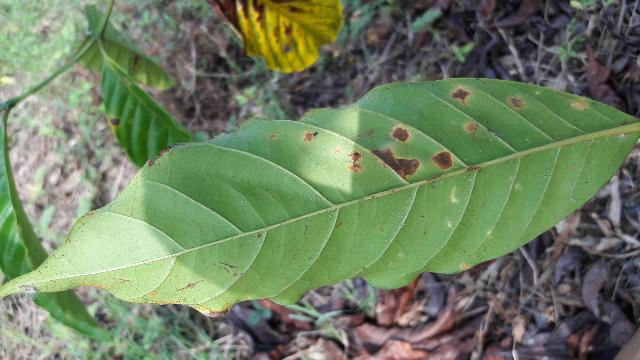red_spider_mite: (3, 83, 639, 317)
